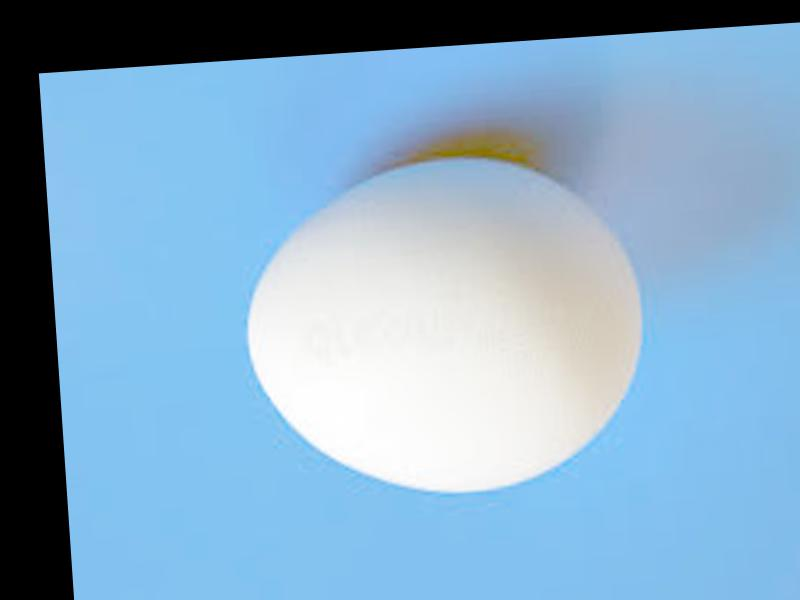Eggs: (232, 144, 655, 505)
